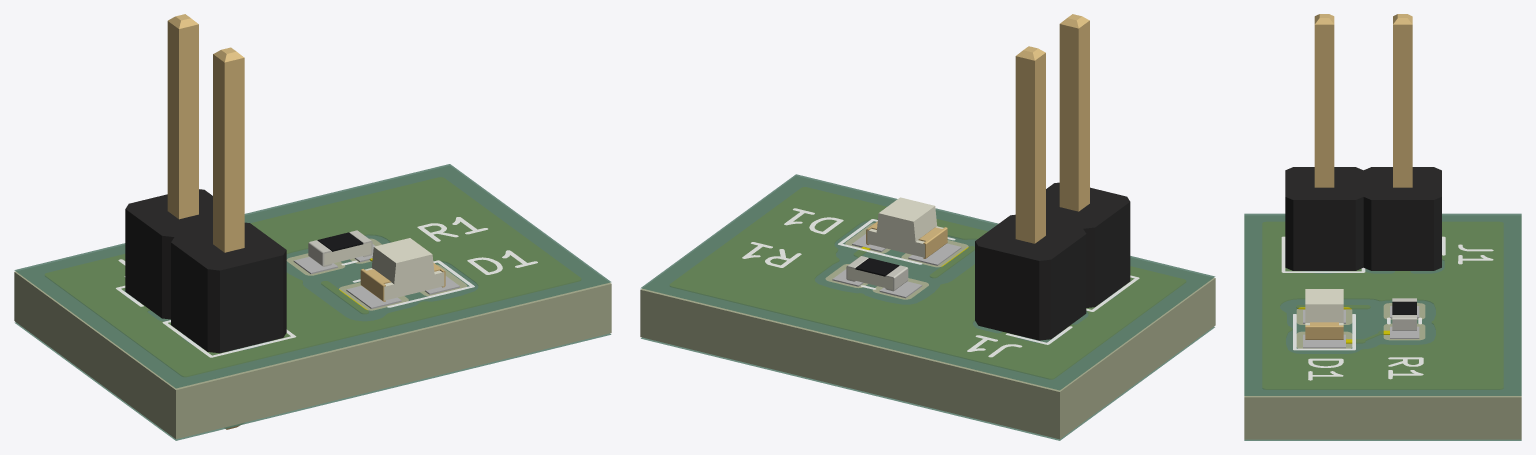
File: board.glb
3 renders of one model, left to right at view 1: azimuth 30°, elevation 25°; view 2: azimuth 150°, elevation 25°; view 3: azimuth 270°, elevation 25°, orthographic. The views are drawn at different scales.
Visible parts, largest first — view 1: board_soldermask (×2), board_PCB, PinHeader_1x02_P254mm_Vertical, board_copper, LED_0805_2012Metric, board_silkscreen, R_0603_1608Metric, board_pad; view 2: board_soldermask (×2), board_PCB, PinHeader_1x02_P254mm_Vertical, board_copper, LED_0805_2012Metric, board_silkscreen, R_0603_1608Metric, board_pad; view 3: board_soldermask (×2), board_PCB, board_copper, PinHeader_1x02_P254mm_Vertical, LED_0805_2012Metric, board_silkscreen, board_pad, R_0603_1608Metric.
Boxes of the visible parts, x1=… form: board_soldermask (×2): x1=14, y1=164, x2=611, y2=440; board_PCB: x1=14, y1=166, x2=611, y2=439; PinHeader_1x02_P254mm_Vertical: x1=125, y1=14, x2=286, y2=429; board_copper: x1=45, y1=177, x2=580, y2=376; LED_0805_2012Metric: x1=360, y1=238, x2=445, y2=301; board_silkscreen: x1=116, y1=217, x2=537, y2=357; R_0603_1608Metric: x1=308, y1=230, x2=372, y2=266; board_pad: x1=293, y1=244, x2=459, y2=308; board_soldermask (×2): x1=640, y1=174, x2=1215, y2=440; board_PCB: x1=640, y1=176, x2=1215, y2=439; PinHeader_1x02_P254mm_Vertical: x1=975, y1=14, x2=1130, y2=340; board_copper: x1=670, y1=187, x2=1185, y2=378; LED_0805_2012Metric: x1=866, y1=197, x2=947, y2=258; board_silkscreen: x1=742, y1=208, x2=1139, y2=357; R_0603_1608Metric: x1=846, y1=256, x2=908, y2=291; board_pad: x1=832, y1=234, x2=961, y2=298; board_soldermask (×2): x1=1244, y1=213, x2=1521, y2=440; board_PCB: x1=1244, y1=216, x2=1521, y2=439; board_copper: x1=1263, y1=222, x2=1502, y2=389; PinHeader_1x02_P254mm_Vertical: x1=1285, y1=14, x2=1441, y2=270; LED_0805_2012Metric: x1=1305, y1=289, x2=1343, y2=339; board_silkscreen: x1=1281, y1=236, x2=1493, y2=380; board_pad: x1=1303, y1=306, x2=1419, y2=348; R_0603_1608Metric: x1=1392, y1=298, x2=1416, y2=330.
Size of the model in its own units: 0.014 by 0.0115 by 0.009.
